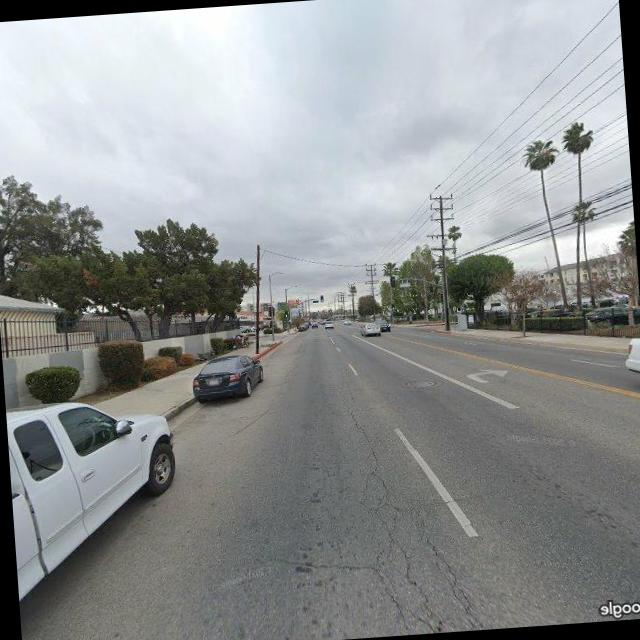pothole: (339, 368, 476, 634)
